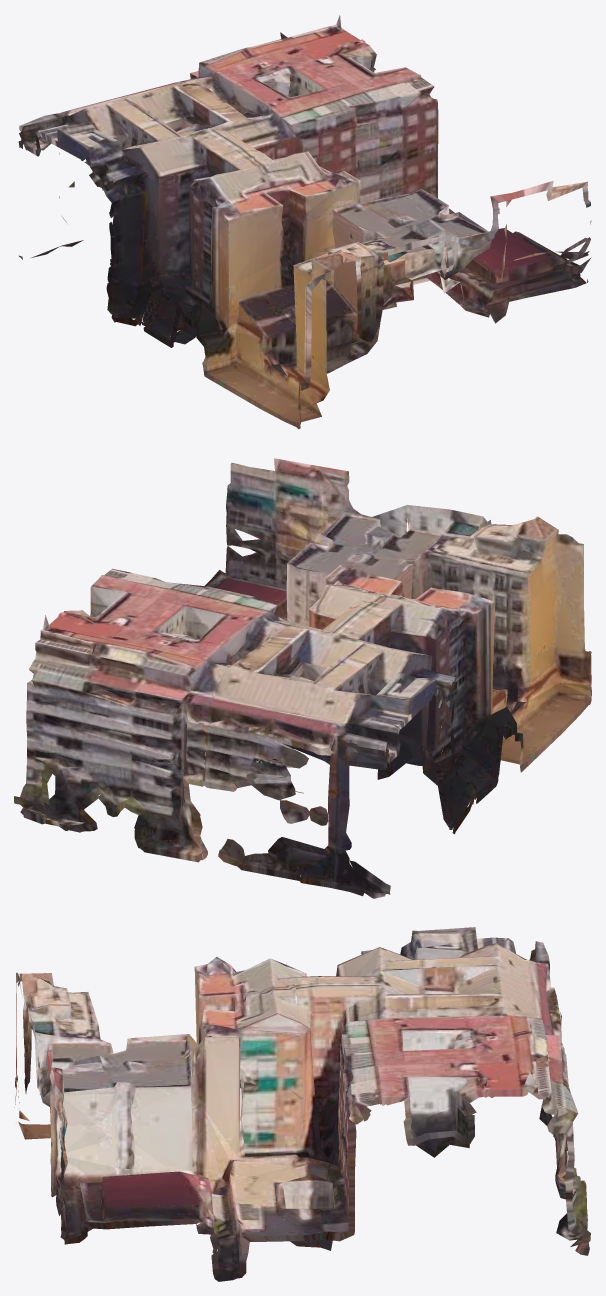
The picture shows the model from 3 angles, top to bottom: view 1: azimuth 30°, elevation 25°; view 2: azimuth 150°, elevation 25°; view 3: azimuth 270°, elevation 25°; orthographic projection. The views are drawn at different scales.
Parts seen in each view (by area): view 1: Mesh_0; view 2: Mesh_0; view 3: Mesh_0.
Boxes of the visible parts, box(x1,y1,x2,y2) form: Mesh_0: box(18, 15, 591, 429); Mesh_0: box(14, 458, 591, 898); Mesh_0: box(14, 927, 590, 1281).
Bounding box in the file's own units: 67.52 × 32.83 × 82.87.
1 material, 1 textured.
